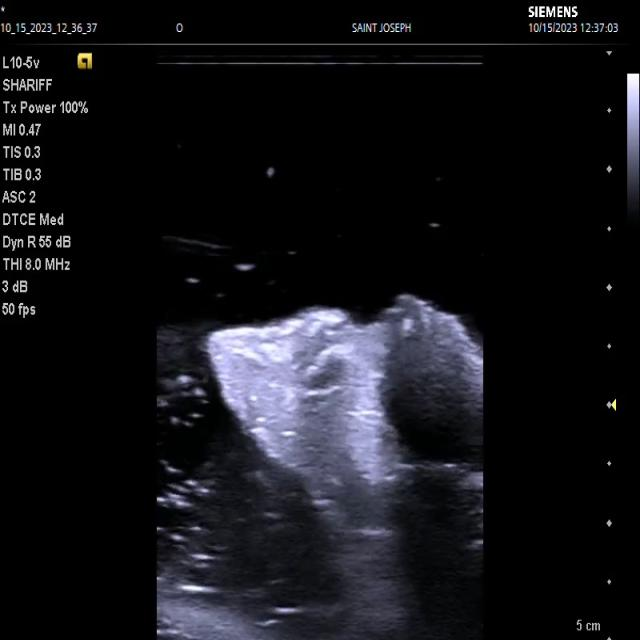tissue: (208, 306, 483, 636)
